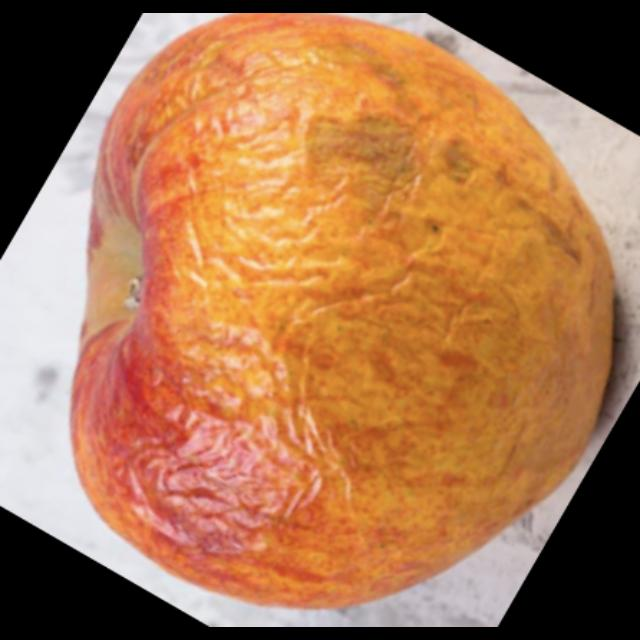Apel Tidak Segar: (61, 13, 627, 619)
